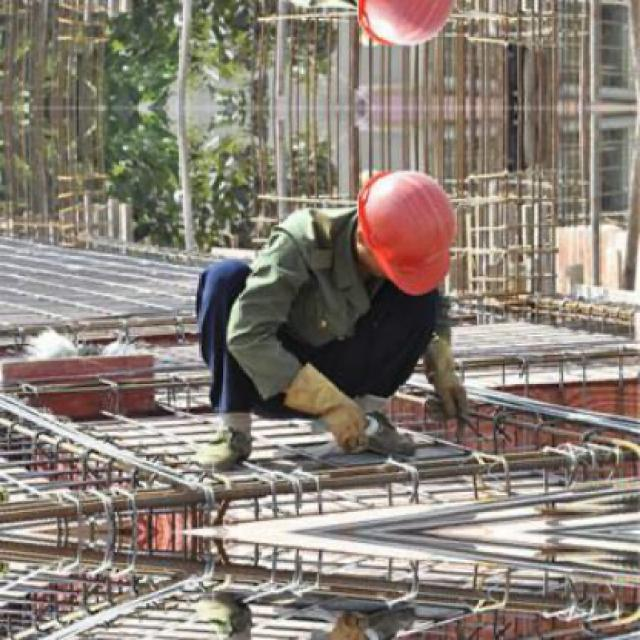helmet: (345, 156, 466, 302), (344, 0, 468, 62)
